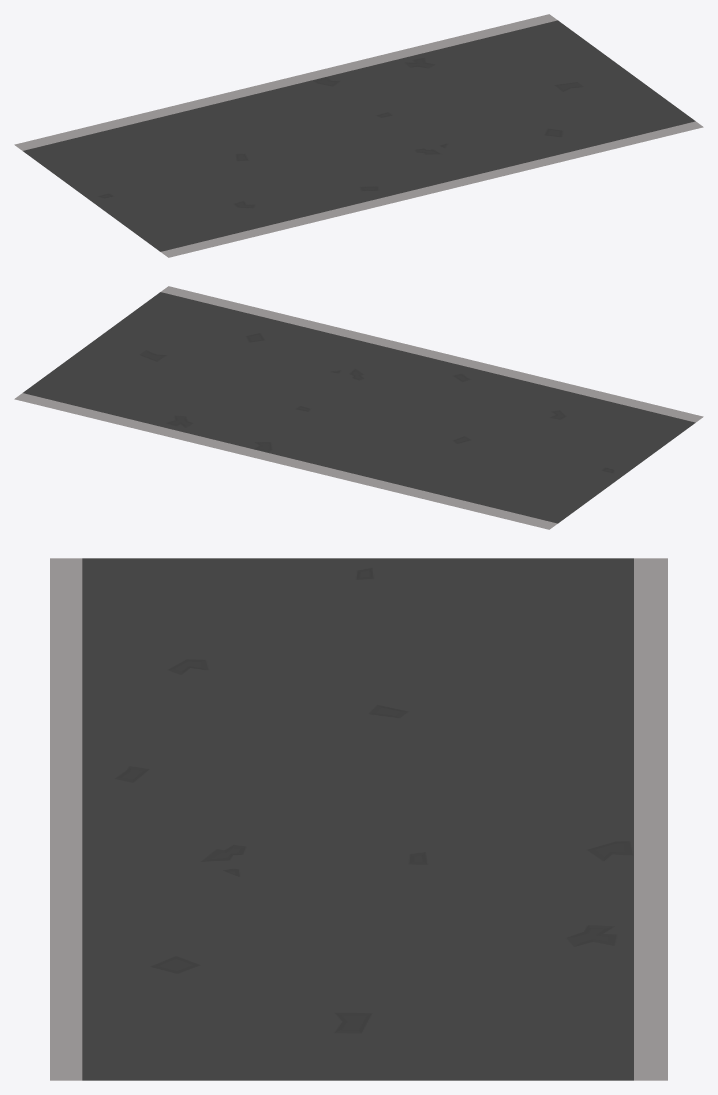
File: SM_Gen_Env_Road_Half_02.fbx
The picture shows the model from 3 angles, top to bottom: view 1: azimuth 30°, elevation 25°; view 2: azimuth 150°, elevation 25°; view 3: azimuth 270°, elevation 25°; orthographic projection. The views are drawn at different scales.
Parts seen in each view (by area): view 1: SM_Gen_Env_Road_Half_02; view 2: SM_Gen_Env_Road_Half_02; view 3: SM_Gen_Env_Road_Half_02.
Part boxes in pixels (bbox=[...]): SM_Gen_Env_Road_Half_02: bbox=[14, 14, 703, 257]; SM_Gen_Env_Road_Half_02: bbox=[14, 286, 703, 529]; SM_Gen_Env_Road_Half_02: bbox=[50, 558, 667, 1080].
Size of the model in its own units: 1000 by 1.06e-17 by 500.
